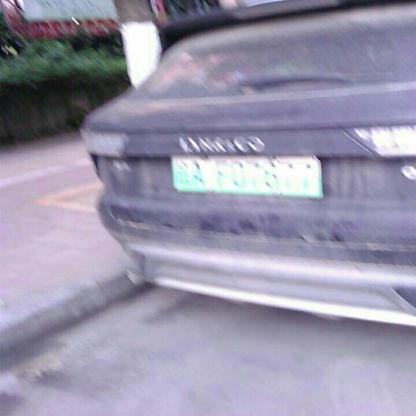lp: (170, 155, 324, 197)
